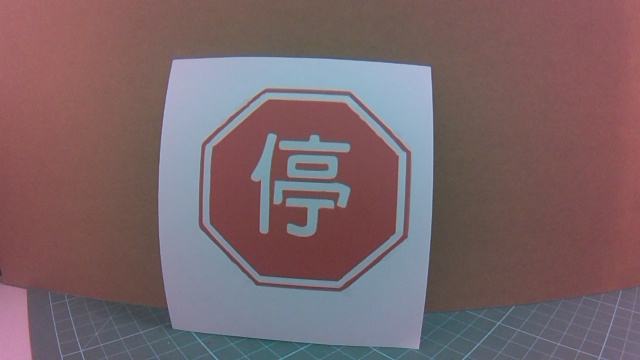stop: (218, 86, 404, 292)
